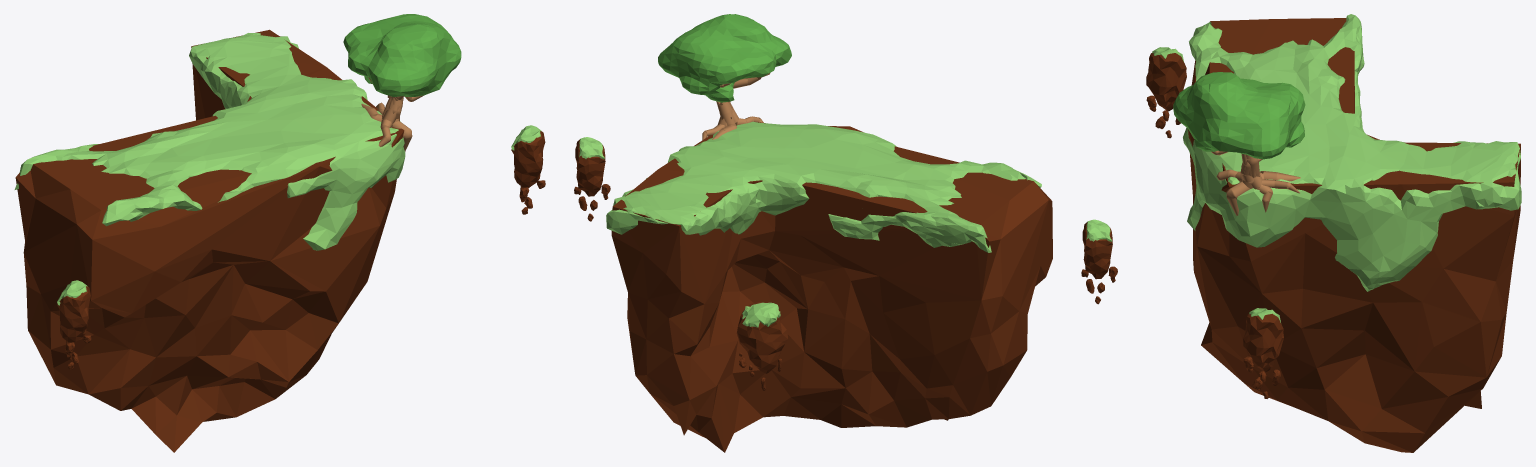
The model's file is Uno_Isola2.fbx.
The picture shows the model from 3 angles, left to right: view 1: azimuth 30°, elevation 25°; view 2: azimuth 150°, elevation 25°; view 3: azimuth 270°, elevation 25°; orthographic projection. The views are drawn at different scales.
Parts seen in each view (by area): view 1: Plane, Plane.016, Mball.000, Sphere.012, Sphere.111, NurbsPath.002; view 2: Plane, Plane.016, Mball.000, Sphere.021, NurbsPath.002, Sphere.012, Sphere.111, Sphere.020; view 3: Plane, Plane.016, Mball.000, NurbsPath.002, Sphere.111, Sphere.012.
Part boxes in pixels (x1=…): Plane: x1=15, y1=29, x2=404, y2=452; Plane.016: x1=14, y1=33, x2=405, y2=250; Mball.000: x1=343, y1=14, x2=461, y2=96; Sphere.012: x1=57, y1=286, x2=90, y2=343; Sphere.111: x1=511, y1=131, x2=545, y2=188; NurbsPath.002: x1=361, y1=77, x2=423, y2=151; Plane: x1=611, y1=122, x2=1052, y2=452; Plane.016: x1=606, y1=121, x2=1041, y2=252; Mball.000: x1=658, y1=14, x2=791, y2=102; Sphere.021: x1=736, y1=302, x2=787, y2=373; NurbsPath.002: x1=702, y1=73, x2=770, y2=139; Sphere.012: x1=1082, y1=222, x2=1112, y2=279; Sphere.111: x1=575, y1=139, x2=605, y2=196; Sphere.020: x1=742, y1=302, x2=780, y2=327; Plane: x1=1188, y1=18, x2=1520, y2=452; Plane.016: x1=1183, y1=14, x2=1521, y2=291; Mball.000: x1=1173, y1=72, x2=1305, y2=159; NurbsPath.002: x1=1211, y1=150, x2=1300, y2=215; Sphere.111: x1=1243, y1=313, x2=1283, y2=372; Sphere.012: x1=1146, y1=53, x2=1186, y2=111.
Size of the model in its own units: 555 by 383 by 317.
